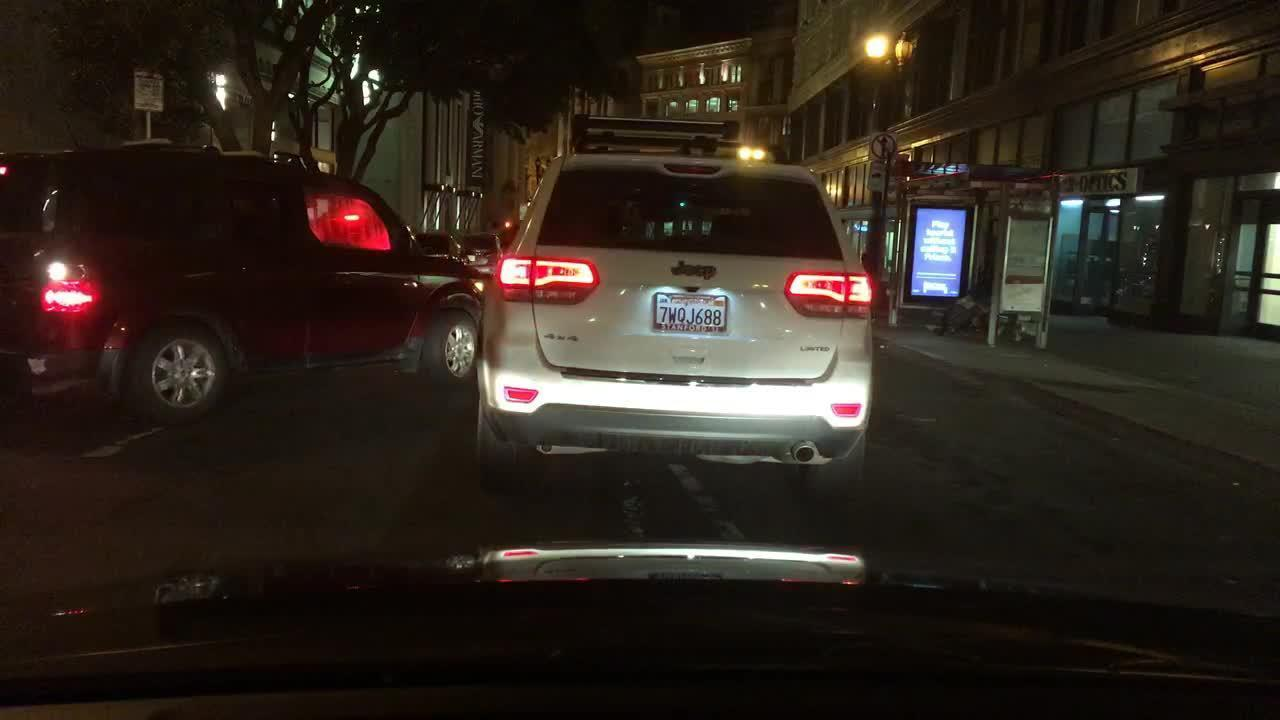jeep: (662, 254, 730, 289)
